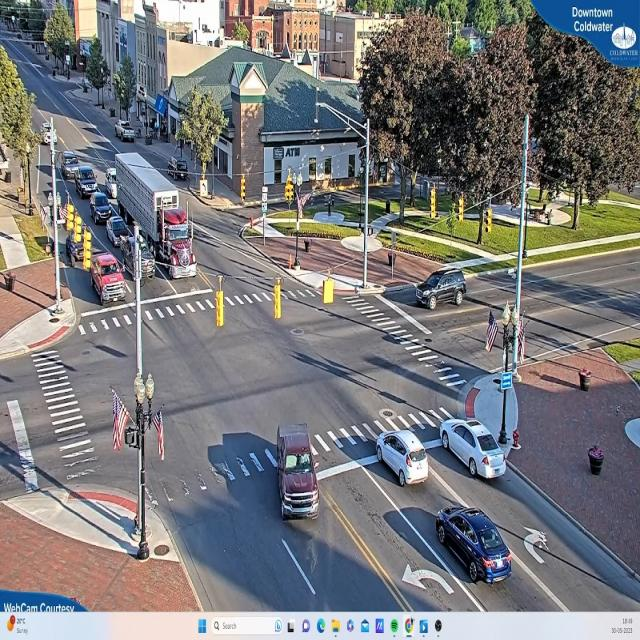car: (435, 506, 513, 586), (438, 414, 508, 482), (274, 424, 320, 520), (375, 428, 431, 486), (414, 270, 468, 311), (86, 250, 126, 305), (123, 233, 158, 281), (67, 223, 91, 268), (106, 214, 130, 249), (90, 194, 112, 223), (77, 165, 97, 194), (116, 123, 138, 143)
truck: (161, 193, 198, 280)
